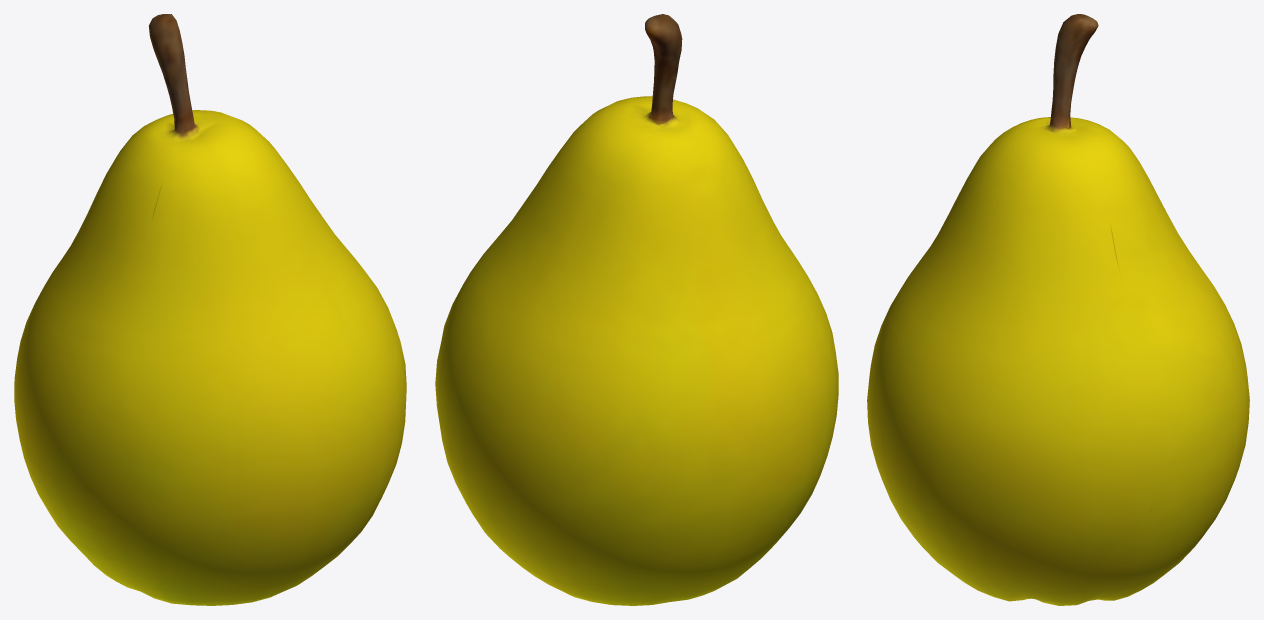
Rendered from suica-pearl.glb.
3 renders of one model, left to right at view 1: azimuth 30°, elevation 25°; view 2: azimuth 150°, elevation 25°; view 3: azimuth 270°, elevation 25°, orthographic. The views are drawn at different scales.
Visible parts, largest first — view 1: Mesh; view 2: Mesh; view 3: Mesh.
Part boxes in pixels (left/top/right/bottom): Mesh: left=14, top=14, right=406, bottom=605; Mesh: left=435, top=14, right=838, bottom=605; Mesh: left=867, top=14, right=1249, bottom=605.
Bounding box in the file's own units: 30.85 × 48.13 × 30.82.
1 material, 1 textured.
